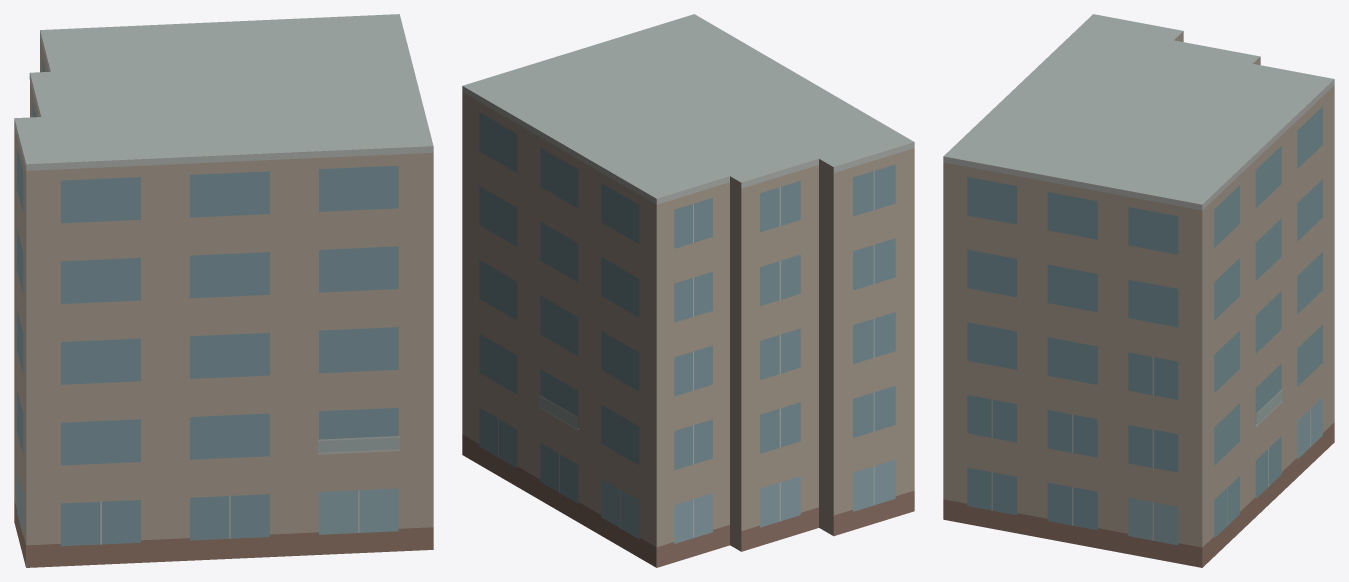
Rendered from survey-upis-32918201.glb.
3 views of the same model, side by side, from view 1: azimuth 30°, elevation 25°; view 2: azimuth 150°, elevation 25°; view 3: azimuth 270°, elevation 25° (orthographic). The views are drawn at different scales.
Parts seen in each view (by area): view 1: survey-upis-32918201.tmp; view 2: survey-upis-32918201.tmp; view 3: survey-upis-32918201.tmp.
Part boxes in pixels (bbox=[...]): survey-upis-32918201.tmp: bbox=[14, 14, 433, 567]; survey-upis-32918201.tmp: bbox=[462, 14, 914, 567]; survey-upis-32918201.tmp: bbox=[943, 14, 1334, 567].
Size of the model in its own units: 16.78 by 14.9 by 14.56.
